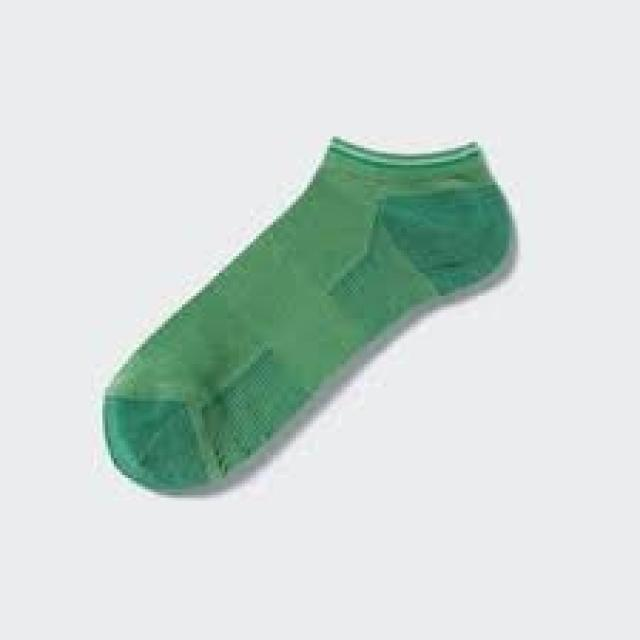sock: (100, 134, 518, 498)
